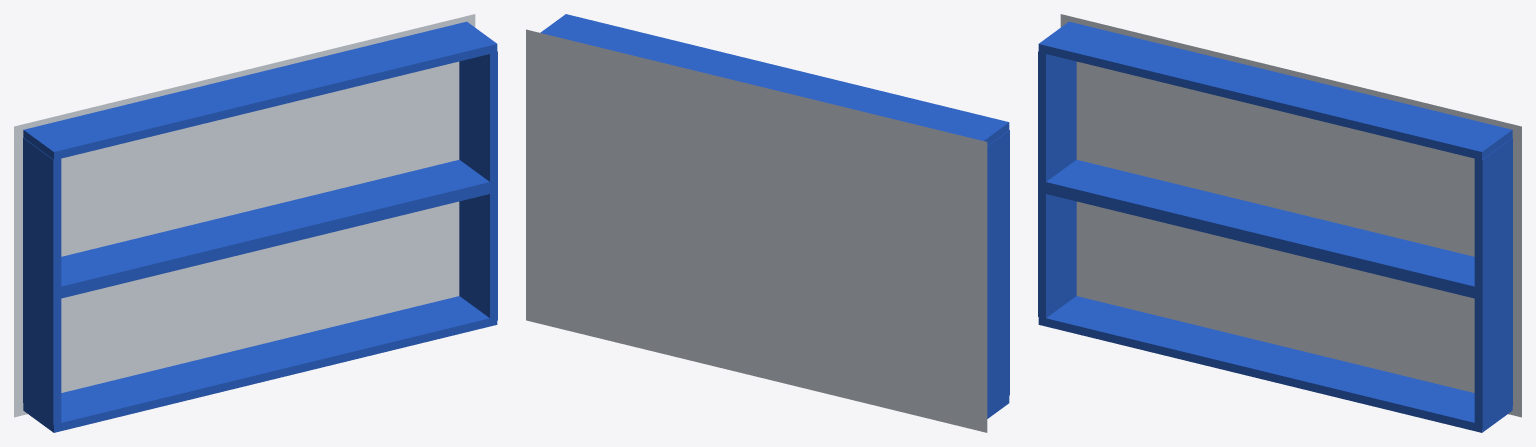
The model's file is test_improved.obj.
3 views of the same model, side by side, from view 1: azimuth 30°, elevation 25°; view 2: azimuth 150°, elevation 25°; view 3: azimuth 330°, elevation 25° (orthographic).
Size of the model in its own units: 26.2 by 15.8 by 3.05.
